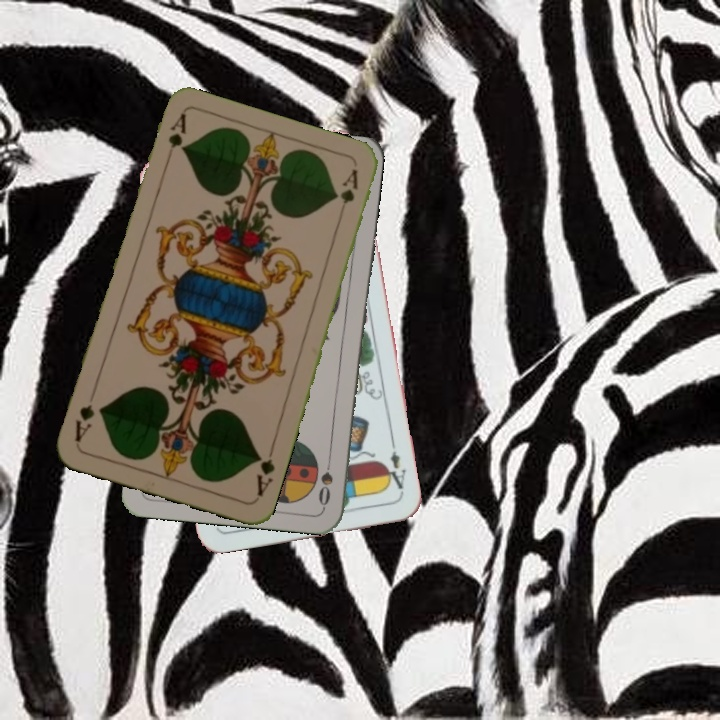EA: (380, 438, 409, 492)
GA: (161, 110, 189, 168), (252, 442, 278, 499)
SO: (315, 449, 336, 508)
